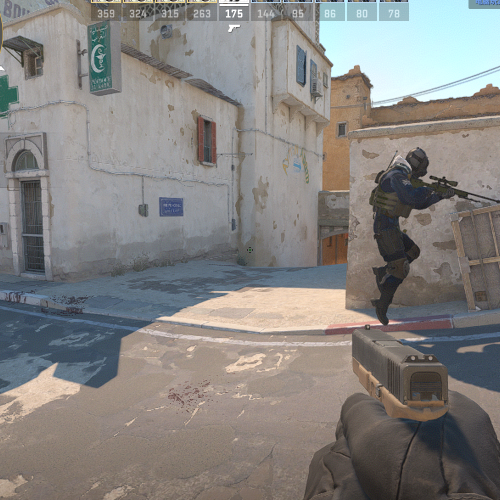ct_body: (370, 145, 439, 324)
ct_head: (405, 146, 429, 179)
